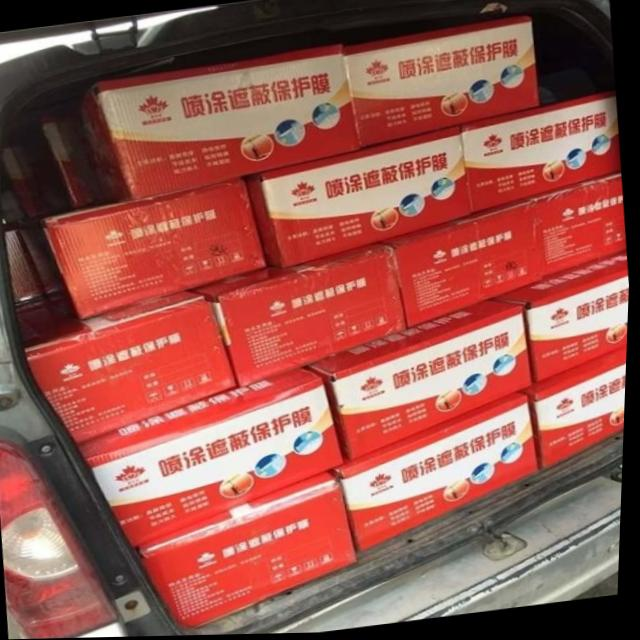box: (81, 368, 349, 548), (70, 45, 363, 205), (303, 302, 537, 462), (139, 473, 364, 629), (20, 290, 239, 446), (33, 178, 271, 321), (333, 395, 542, 555), (244, 128, 475, 270), (192, 244, 410, 391), (343, 18, 541, 148), (384, 204, 548, 330), (463, 95, 621, 213), (493, 255, 631, 385), (520, 348, 630, 473), (528, 174, 627, 280), (11, 120, 100, 215), (9, 230, 52, 312)
